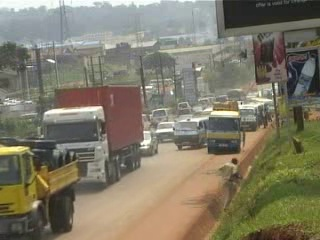Car: (138, 128, 163, 160)
